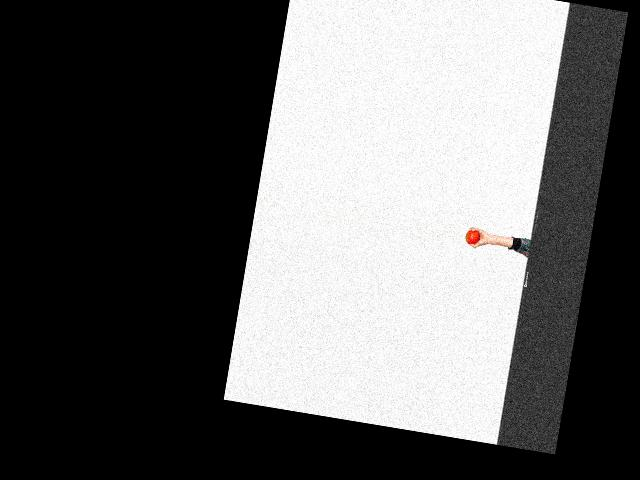tomato: (464, 228, 480, 245)
